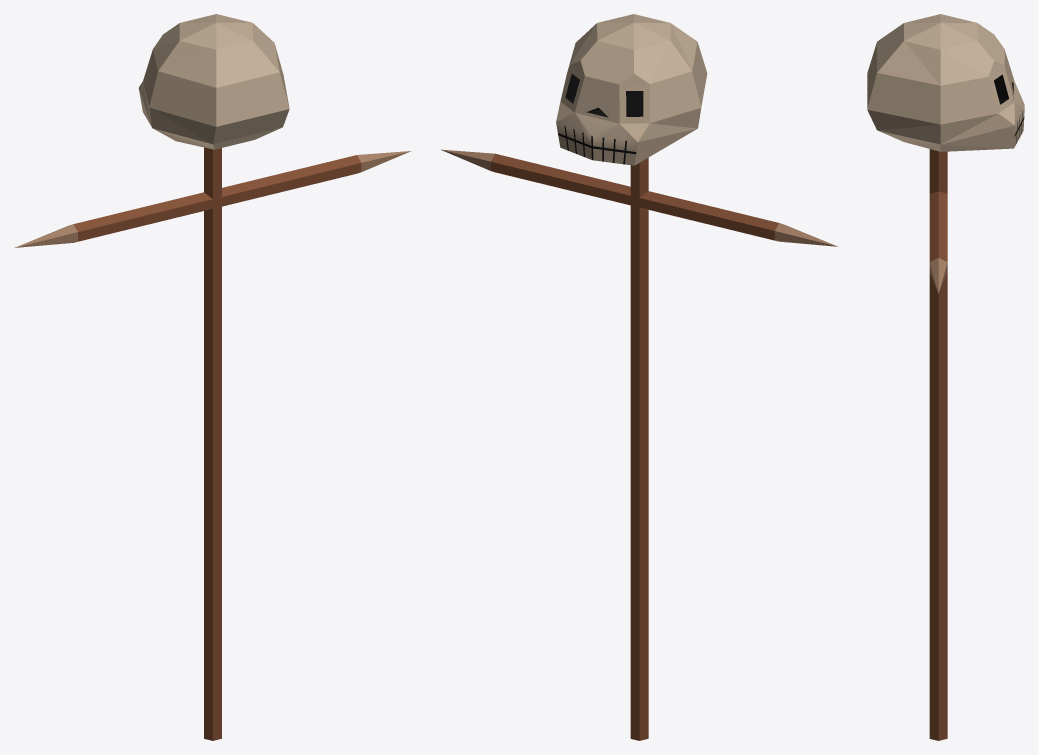
Rendered from Empalizada_calavera.fbx.
The picture shows the model from 3 angles, left to right: view 1: azimuth 30°, elevation 25°; view 2: azimuth 150°, elevation 25°; view 3: azimuth 270°, elevation 25°; orthographic projection.
Visible parts, largest first — view 1: Empalizada_Calavera; view 2: Empalizada_Calavera; view 3: Empalizada_Calavera.
Part boxes in pixels (x1,y1,x2,y2): Empalizada_Calavera: (14, 14, 410, 740); Empalizada_Calavera: (441, 14, 838, 740); Empalizada_Calavera: (867, 14, 1024, 740).
Size of the model in its own units: 1.37 by 2.35 by 0.4685.
